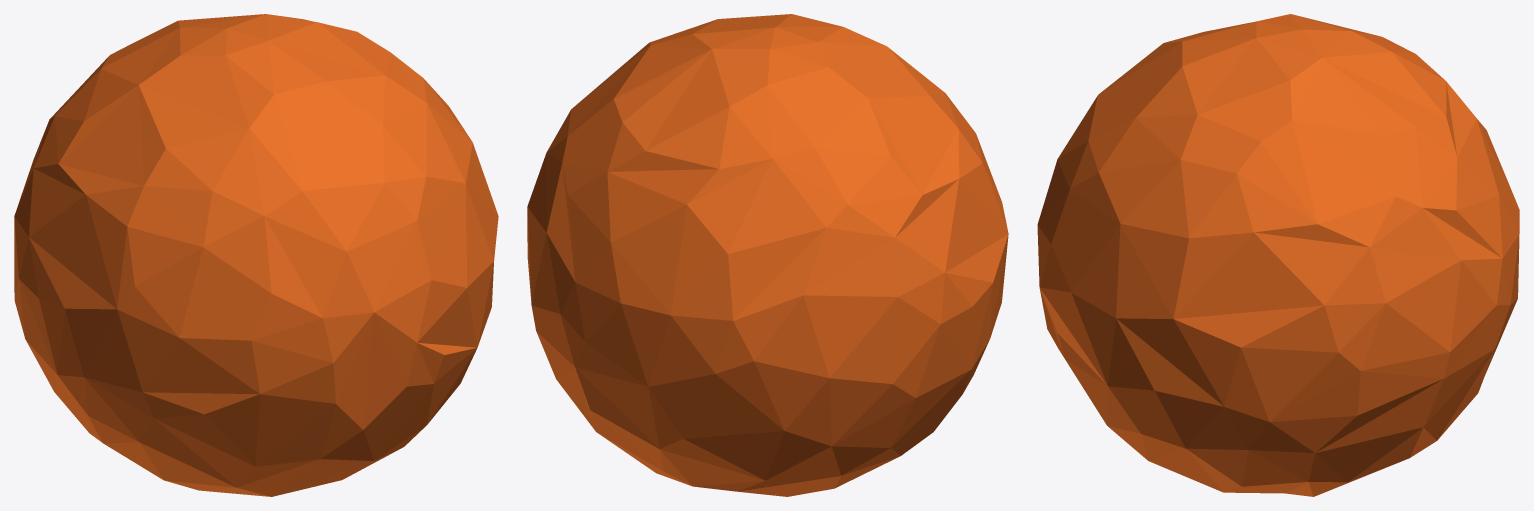
The model's file is Smaller Orange Zika Cell.fbx.
3 views of the same model, side by side, from view 1: azimuth 30°, elevation 25°; view 2: azimuth 150°, elevation 25°; view 3: azimuth 270°, elevation 25° (orthographic).
Visible parts, largest first — view 1: Smaller_Zika_Virus:Zika_Virus:Mesh; view 2: Smaller_Zika_Virus:Zika_Virus:Mesh; view 3: Smaller_Zika_Virus:Zika_Virus:Mesh.
Part boxes in pixels (box(x1,y1,x2,y2)): Smaller_Zika_Virus:Zika_Virus:Mesh: box(14, 14, 498, 496); Smaller_Zika_Virus:Zika_Virus:Mesh: box(527, 14, 1008, 496); Smaller_Zika_Virus:Zika_Virus:Mesh: box(1037, 14, 1519, 496).
Bounding box in the file's own units: 2 × 2 × 2.
